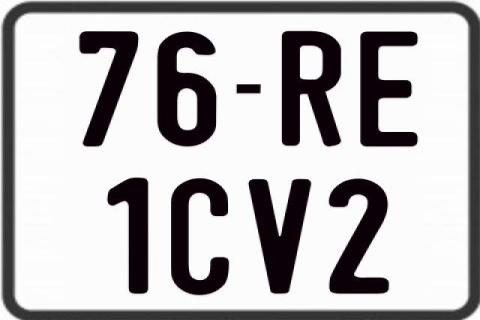0: (157, 31, 222, 148), (328, 176, 392, 294), (79, 30, 140, 148), (104, 176, 147, 292)
C: (170, 177, 232, 297)
E: (357, 31, 416, 148)
R: (282, 31, 346, 149)
V: (249, 178, 311, 294)
